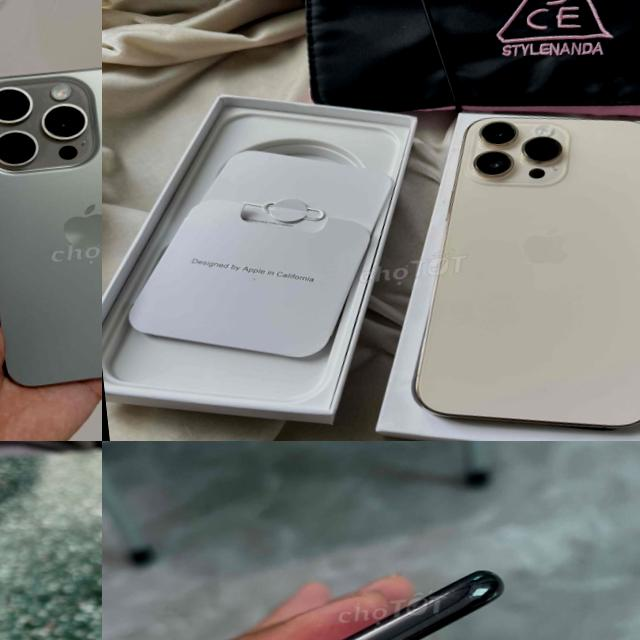gen_14: (381, 91, 640, 441)
gen_15: (0, 43, 102, 415)
gen_x_xs: (109, 548, 541, 640)
